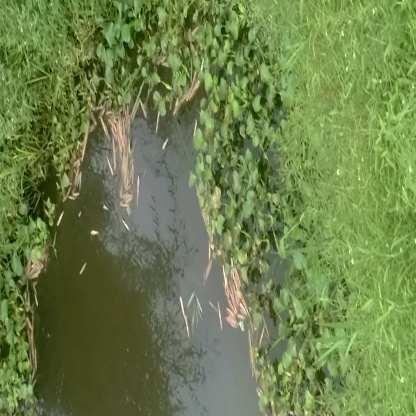leaf: (104, 125, 151, 223)
